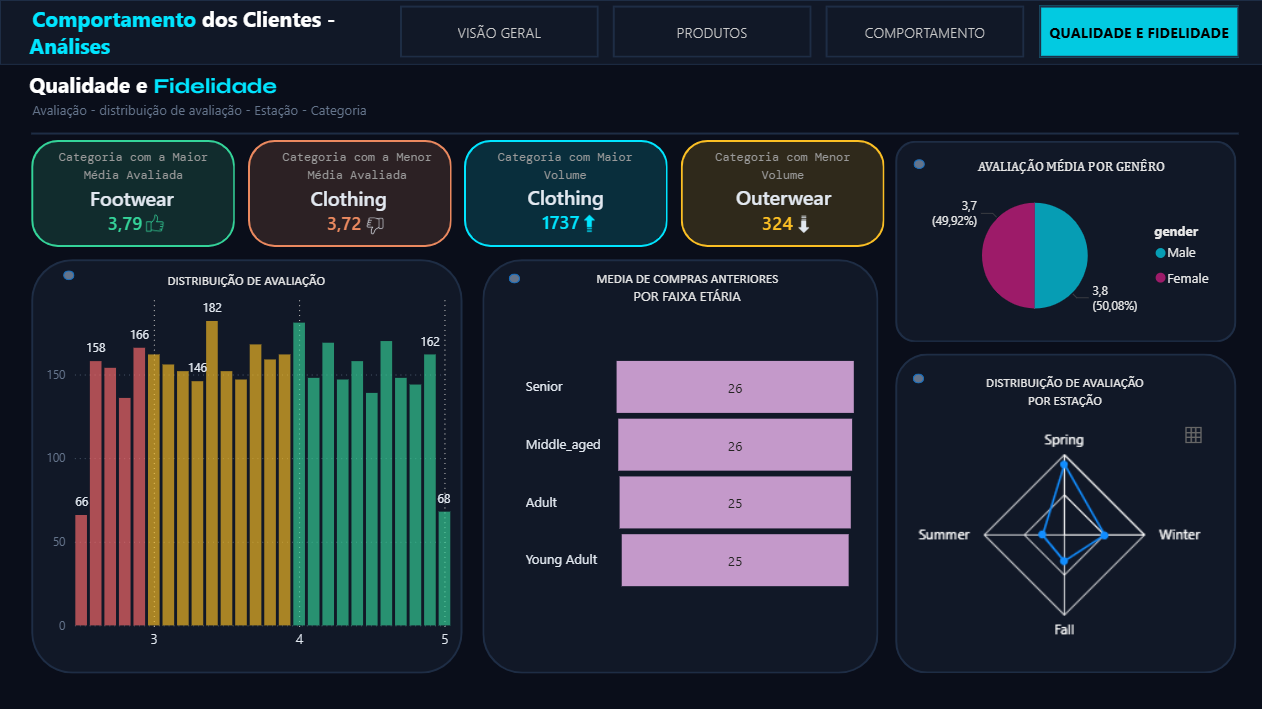

Layout of this report page (visuals, bound fields, positions):
{"tool":"powerbi","page":{"name":"QUALIDADE E FIDELIDADE","canvas":[1280,720],"ordinal":3},"visuals":[{"type":"shape","box":[31.7,141.7,206.7,108.3],"z":0},{"type":"shape","box":[0,0,1280,65.7],"z":1000},{"type":"textbox","box":[12.9,0,348.6,65.7],"z":2000},{"type":"actionButton","box":[405.7,5.7,201.4,52.9],"z":3000},{"type":"actionButton","box":[621.4,5.7,201.4,52.9],"z":4000},{"type":"actionButton","box":[837.1,5.7,201.4,52.9],"z":5000},{"type":"actionButton","box":[1052.9,5.7,202.9,52.9],"z":6000},{"type":"textbox","box":[12.9,65.7,608.6,62.9],"z":7000},{"type":"shape","box":[31.4,128.6,1224.3,12.9],"z":8000},{"type":"card","fields":{"Values":["Medidas.Maior Media Avaliada Categoria"]},"box":[94.3,208.6,65.7,38.6],"z":9000},{"type":"card","fields":{"Values":["Medidas.Melhor Avaliacao Categoria"]},"box":[78.8,185,110,35],"z":10000},{"type":"shape","box":[251.7,141.7,206.7,108.3],"z":11000},{"type":"shape","box":[470,141.7,206.7,108.3],"z":12000},{"type":"shape","box":[690,141.7,206.7,108.3],"z":13000},{"type":"textbox","box":[38.8,142.5,192.5,55],"z":14000},{"type":"card","fields":{"Values":["Medidas.Menor Media Avaliada Categoria"]},"box":[308.6,210,80,35.7],"z":15000},{"type":"card","fields":{"Values":["Medidas.Pior Avaliação Nome Categoria"]},"box":[301.7,181.7,103.3,41.7],"z":16000},{"type":"textbox","box":[265,142.5,193.8,55],"z":17000},{"type":"textbox","box":[476.2,142.5,193.8,55],"z":18000},{"type":"textbox","box":[696.2,142.5,193.8,55],"z":19000},{"type":"card","fields":{"Values":["Medidas.Maior Volume Nome Categoria"]},"box":[737.5,182.5,112.5,38.8],"z":20000},{"type":"card","fields":{"Values":["Medidas.Menor Volume Categoria"]},"box":[752.2,212.2,71.1,30],"z":21000},{"type":"card","fields":{"Values":["Medidas.Maior Volume por Categoria"]},"box":[541.1,212.2,55.6,28.9],"z":22000},{"type":"card","fields":{"Values":["Medidas.Maior Volume Nome Categoria"]},"box":[521.2,186.2,103.8,31.2],"z":23000},{"type":"image","box":[588.8,216.2,17.5,18.8],"z":24000},{"type":"image","box":[806.2,217.5,17.5,18.8],"z":25000},{"type":"image","box":[371.2,218.8,17.5,18.8],"z":26000},{"type":"image","box":[147.5,216.2,18.8,18.8],"z":27000},{"type":"shape","box":[31.4,262.9,437.1,420],"z":28000},{"type":"shape","box":[488.6,262.9,401.4,420],"z":29000},{"type":"shape","box":[907.1,358.6,345.7,324.3],"z":30000},{"type":"columnChart","fields":{"Category":["public customer.review_rating"],"Y":["Medidas.Qtd Ratings"]},"box":[41.2,287.5,420,380],"z":31000},{"type":"shape","box":[64.3,274.3,11.4,10],"z":32000},{"type":"textbox","box":[152.9,268.6,192.9,30],"z":33000},{"type":"shape","box":[925.5,378.7,11.4,10],"z":35000},{"type":"textbox","box":[983.8,372.1,191.7,48.3],"z":36000},{"type":"textbox","box":[594.3,267.1,204.3,58.6],"z":38000},{"type":"shape","box":[515.7,277.1,11.4,10],"z":39000},{"type":"shape","box":[907.1,142.9,345.7,204.3],"z":40000},{"type":"textbox","box":[955.7,152.9,258.6,28.6],"z":42000},{"type":"shape","box":[925.7,161.4,11.4,10],"z":43000},{"type":"funnel","fields":{"Category":["public customer.age_group"],"Y":["Medidas.Média Compras Anteriores"]},"box":[527.5,296.2,347.5,366.2],"z":44500},{"type":"radarChartE89D21F3E4E64221B79113B5015EA81B","fields":{"category":["public customer.season"],"measure":["Medidas.Rank Médio"]},"box":[918.6,421.4,321.4,245.7],"z":45000},{"type":"pieChart","fields":{"Category":["public customer.gender"],"Y":["Medidas.Rank Médio"]},"box":[922.9,182.9,317.1,151.4],"z":45500}]}

Visuals, with their boxes in screenshot pixels (x1, y1, x2, y2), scaled from the page's 1280x720 canvas onto the 1262x709 screenshot:
shape: left=31, top=140, right=235, bottom=246
shape: left=0, top=0, right=1261, bottom=65
textbox: left=13, top=0, right=356, bottom=65
actionButton: left=400, top=6, right=599, bottom=58
actionButton: left=613, top=6, right=811, bottom=58
actionButton: left=825, top=6, right=1024, bottom=58
actionButton: left=1038, top=6, right=1238, bottom=58
textbox: left=13, top=65, right=613, bottom=127
shape: left=31, top=127, right=1238, bottom=139
card - Medidas.Maior Media Avaliada Categoria: left=93, top=205, right=158, bottom=243
card - Medidas.Melhor Avaliacao Categoria: left=78, top=182, right=186, bottom=217
shape: left=248, top=140, right=452, bottom=246
shape: left=463, top=140, right=667, bottom=246
shape: left=680, top=140, right=884, bottom=246
textbox: left=38, top=140, right=228, bottom=194
card - Medidas.Menor Media Avaliada Categoria: left=304, top=207, right=383, bottom=242
card - Medidas.Pior Avaliação Nome Categoria: left=297, top=179, right=399, bottom=220
textbox: left=261, top=140, right=452, bottom=194
textbox: left=470, top=140, right=661, bottom=194
textbox: left=686, top=140, right=877, bottom=194
card - Medidas.Maior Volume Nome Categoria: left=727, top=180, right=838, bottom=218
card - Medidas.Menor Volume Categoria: left=742, top=209, right=812, bottom=238
card - Medidas.Maior Volume por Categoria: left=533, top=209, right=588, bottom=237
card - Medidas.Maior Volume Nome Categoria: left=514, top=183, right=616, bottom=214
image: left=581, top=213, right=598, bottom=231
image: left=795, top=214, right=812, bottom=233
image: left=366, top=215, right=383, bottom=234
image: left=145, top=213, right=164, bottom=231
shape: left=31, top=259, right=462, bottom=672
shape: left=482, top=259, right=877, bottom=672
shape: left=894, top=353, right=1235, bottom=672
columnChart - public customer.review_rating x Medidas.Qtd Ratings: left=41, top=283, right=455, bottom=657
shape: left=63, top=270, right=75, bottom=280
textbox: left=151, top=264, right=341, bottom=294
shape: left=912, top=373, right=924, bottom=383
textbox: left=970, top=366, right=1159, bottom=414
textbox: left=586, top=263, right=787, bottom=321
shape: left=508, top=273, right=520, bottom=283
shape: left=894, top=141, right=1235, bottom=342
textbox: left=942, top=151, right=1197, bottom=179
shape: left=913, top=159, right=924, bottom=169
funnel - public customer.age_group x Medidas.Média Compras Anteriores: left=520, top=292, right=863, bottom=652
radarChartE89D21F3E4E64221B79113B5015EA81B - public customer.season x Medidas.Rank Médio: left=906, top=415, right=1223, bottom=657
pieChart - public customer.gender x Medidas.Rank Médio: left=910, top=180, right=1223, bottom=329
